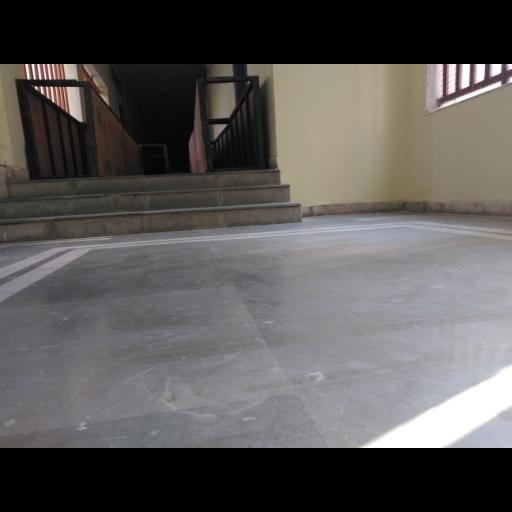stairs: (0, 170, 301, 242)
